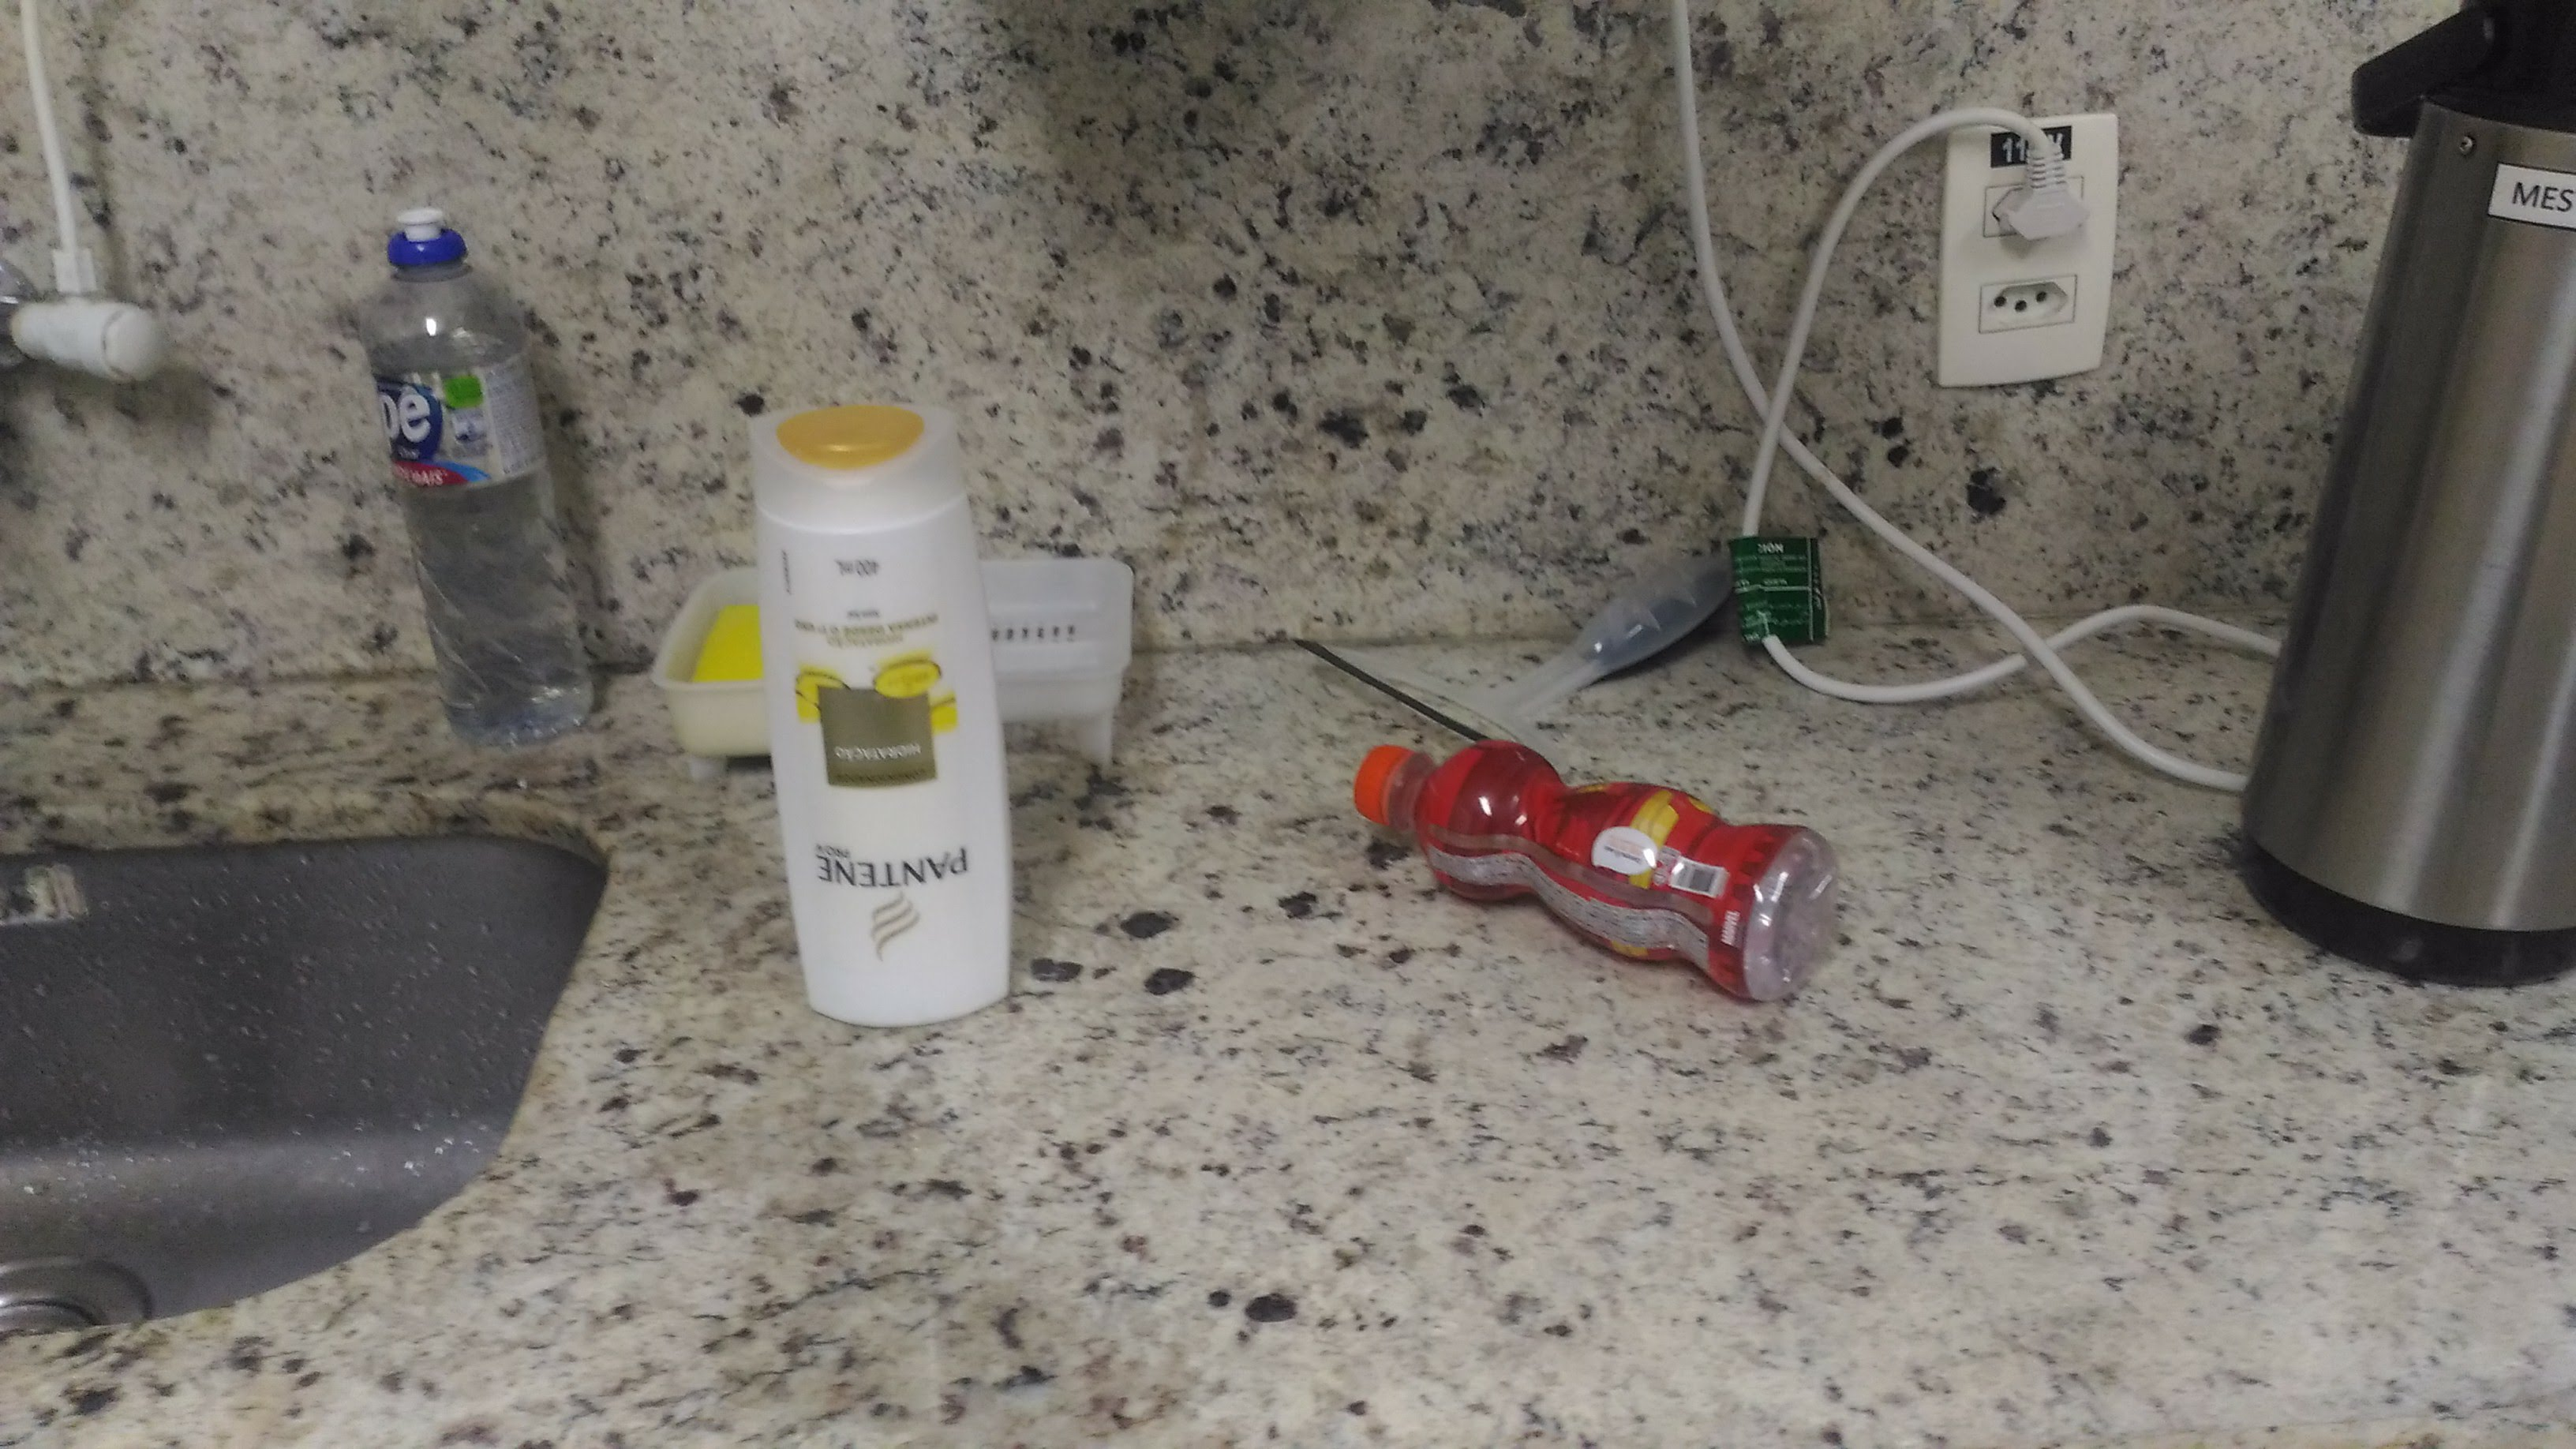iron_man: (1350, 724, 1852, 1015)
shampoo: (727, 396, 1043, 1032)
